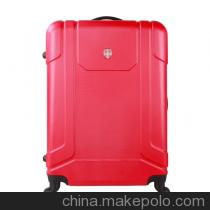luggage: (42, 14, 172, 192)
